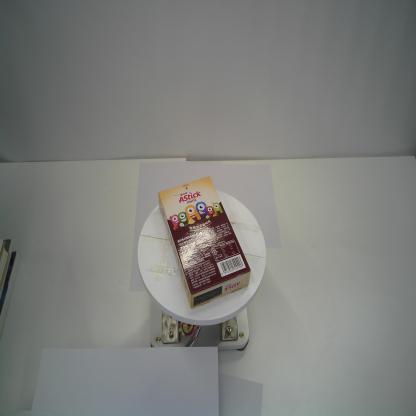Dessert: (157, 176, 252, 310)
